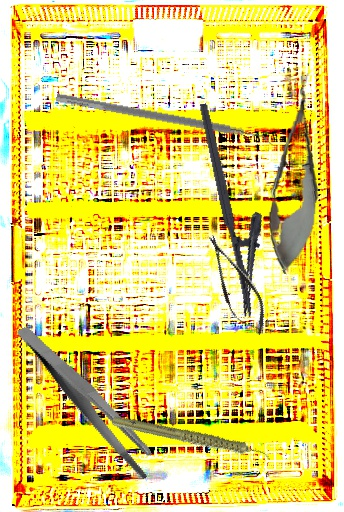Dressing Forceps: (16, 301, 161, 500)
Handpiece: (110, 385, 273, 495)
Micro Scissor: (262, 69, 330, 277), (195, 227, 276, 342)
Needle Holder: (198, 96, 282, 319)
Spatula Surgical: (54, 92, 275, 150)
